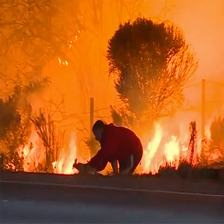fire: (142, 109, 218, 169), (14, 102, 77, 171)
